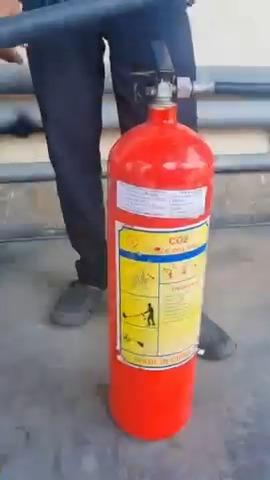FireExtinguisher: (102, 85, 228, 445)
